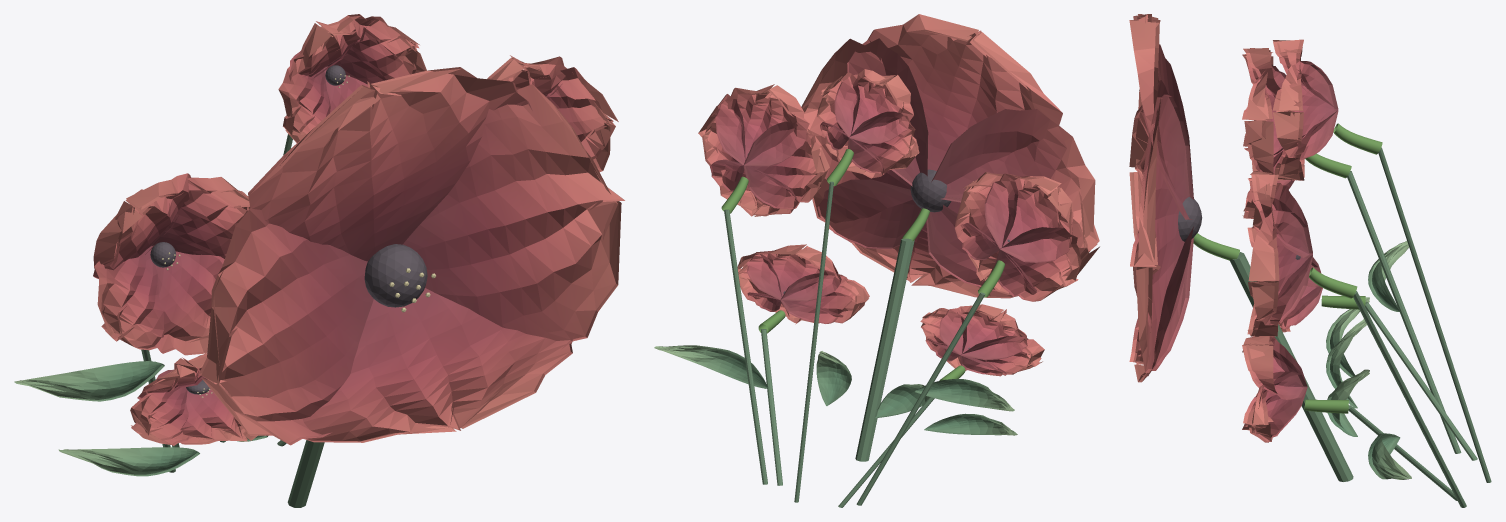
File: papavero.glb
The picture shows the model from 3 angles, left to right: view 1: azimuth 30°, elevation 25°; view 2: azimuth 150°, elevation 25°; view 3: azimuth 270°, elevation 25°; orthographic projection. The views are drawn at different scales.
Visible parts, largest first — view 1: PETALO_000, PETALO_001, PETALO_002, PETALO_003, PETALO_007, PETALO_006, PETALO_005, PETALO_004, PETALO_020, PETALO_008, FOGLIA_RAMOSCELLO_0, CENTRO_0 (+9 smaller); view 2: PETALO_001, PETALO_002, PETALO_000, PETALO_003, PETALO_005, PETALO_009, PETALO_010, PETALO_021, PETALO_006, PETALO_017, PETALO_013, RAMO_0 (+22 smaller); view 3: PETALO_000, PETALO_008, PETALO_020, PETALO_001, PETALO_004, PETALO_002, RAMO_0, RAMO_5, RAMO_1, PETALO_016, PETALO_017, PETALO_003 (+25 smaller).
Boxes of the visible parts, x1=… form: PETALO_000: x1=403, y1=84, x2=624, y2=349; PETALO_001: x1=248, y1=67, x2=532, y2=261; PETALO_002: x1=199, y1=208, x2=373, y2=445; PETALO_003: x1=303, y1=288, x2=574, y2=442; PETALO_007: x1=155, y1=251, x2=224, y2=355; PETALO_006: x1=94, y1=246, x2=164, y2=350; PETALO_005: x1=93, y1=173, x2=191, y2=278; PETALO_004: x1=152, y1=177, x2=250, y2=258; PETALO_020: x1=326, y1=16, x2=426, y2=84; PETALO_008: x1=546, y1=67, x2=618, y2=171; FOGLIA_RAMOSCELLO_0: x1=14, y1=361, x2=164, y2=401; CENTRO_0: x1=364, y1=244, x2=427, y2=307; PETALO_001: x1=847, y1=14, x2=1066, y2=202; PETALO_002: x1=926, y1=109, x2=1099, y2=291; PETALO_000: x1=801, y1=38, x2=928, y2=248; PETALO_003: x1=817, y1=179, x2=1013, y2=298; PETALO_005: x1=984, y1=173, x2=1073, y2=262; PETALO_009: x1=715, y1=84, x2=809, y2=166; PETALO_010: x1=743, y1=121, x2=829, y2=209; PETALO_021: x1=834, y1=69, x2=913, y2=144; PETALO_006: x1=994, y1=227, x2=1081, y2=301; PETALO_017: x1=746, y1=244, x2=841, y2=301; PETALO_013: x1=939, y1=304, x2=1027, y2=360; RAMO_0: x1=855, y1=238, x2=914, y2=461; PETALO_000: x1=1130, y1=94, x2=1193, y2=372; PETALO_008: x1=1248, y1=210, x2=1312, y2=325; PETALO_020: x1=1272, y1=61, x2=1338, y2=160; PETALO_001: x1=1129, y1=14, x2=1192, y2=219; PETALO_004: x1=1242, y1=66, x2=1290, y2=185; PETALO_002: x1=1129, y1=44, x2=1193, y2=239; RAMO_0: x1=1229, y1=252, x2=1353, y2=481; RAMO_5: x1=1378, y1=147, x2=1491, y2=482; RAMO_1: x1=1347, y1=171, x2=1461, y2=453; PETALO_016: x1=1243, y1=371, x2=1307, y2=441; PETALO_017: x1=1242, y1=336, x2=1307, y2=399; PETALO_003: x1=1129, y1=226, x2=1193, y2=382.
Bounding box in the file's own units: 1.84 × 1.76 × 1.29.
